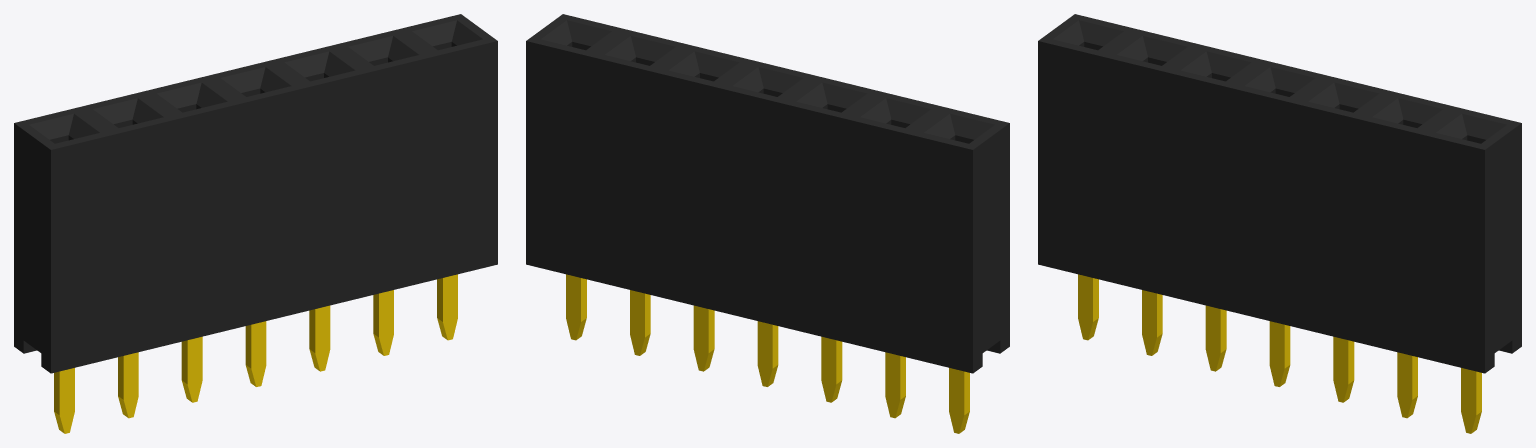
File: PBS7.glb
3 views of the same model, side by side, from view 1: azimuth 30°, elevation 25°; view 2: azimuth 150°, elevation 25°; view 3: azimuth 330°, elevation 25° (orthographic).
Visible parts, largest first — view 1: PBS (DS1023 CONNFLY); view 2: PBS (DS1023 CONNFLY); view 3: PBS (DS1023 CONNFLY).
Boxes of the visible parts, x1,y1,x2,y2 form: PBS (DS1023 CONNFLY): (14,14,497,433); PBS (DS1023 CONNFLY): (526,14,1009,433); PBS (DS1023 CONNFLY): (1038,14,1521,433).
Bounding box in the file's own units: 0.0178 × 0.0115 × 0.00254.
